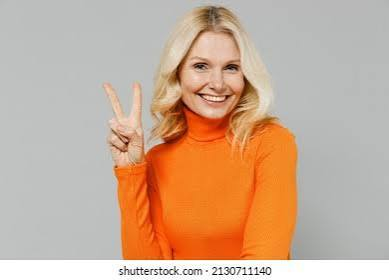peace_sign: (102, 75, 151, 158)
